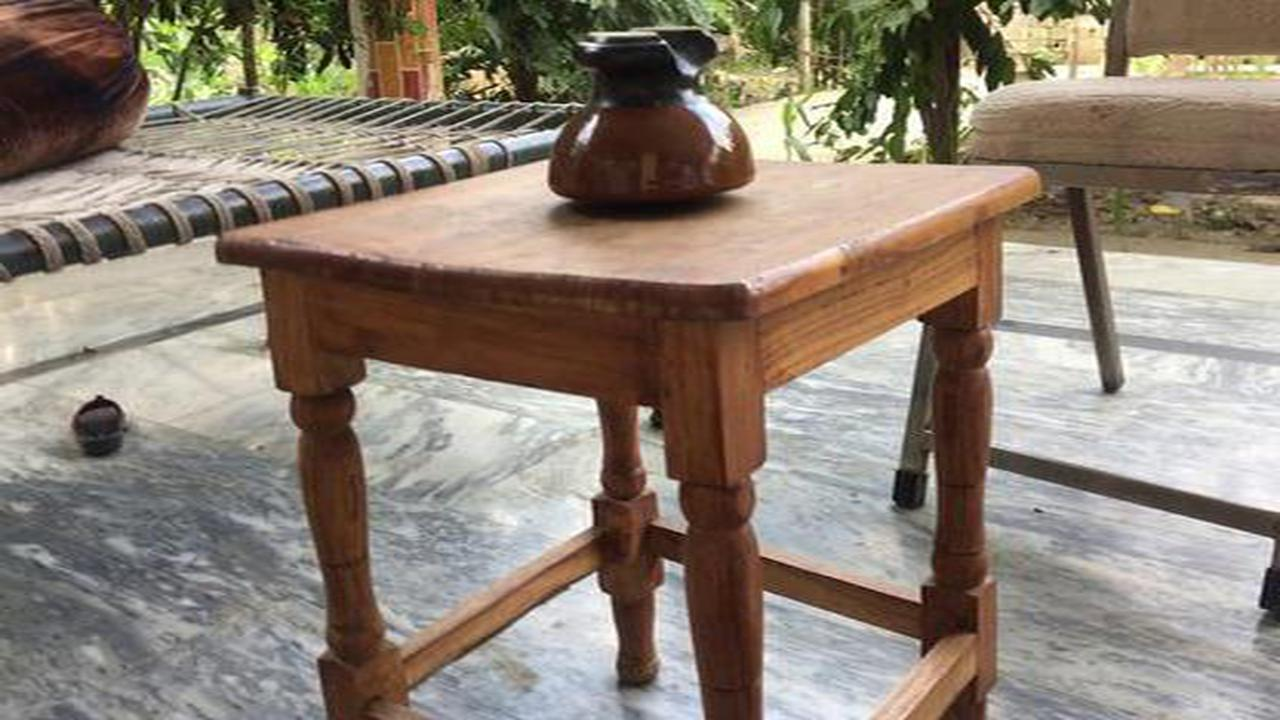insulator_pin: (530, 20, 767, 219)
